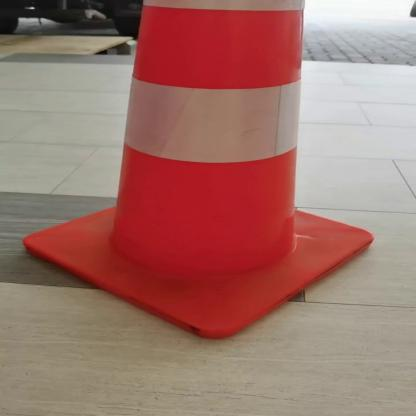cone: (27, 0, 391, 351)
